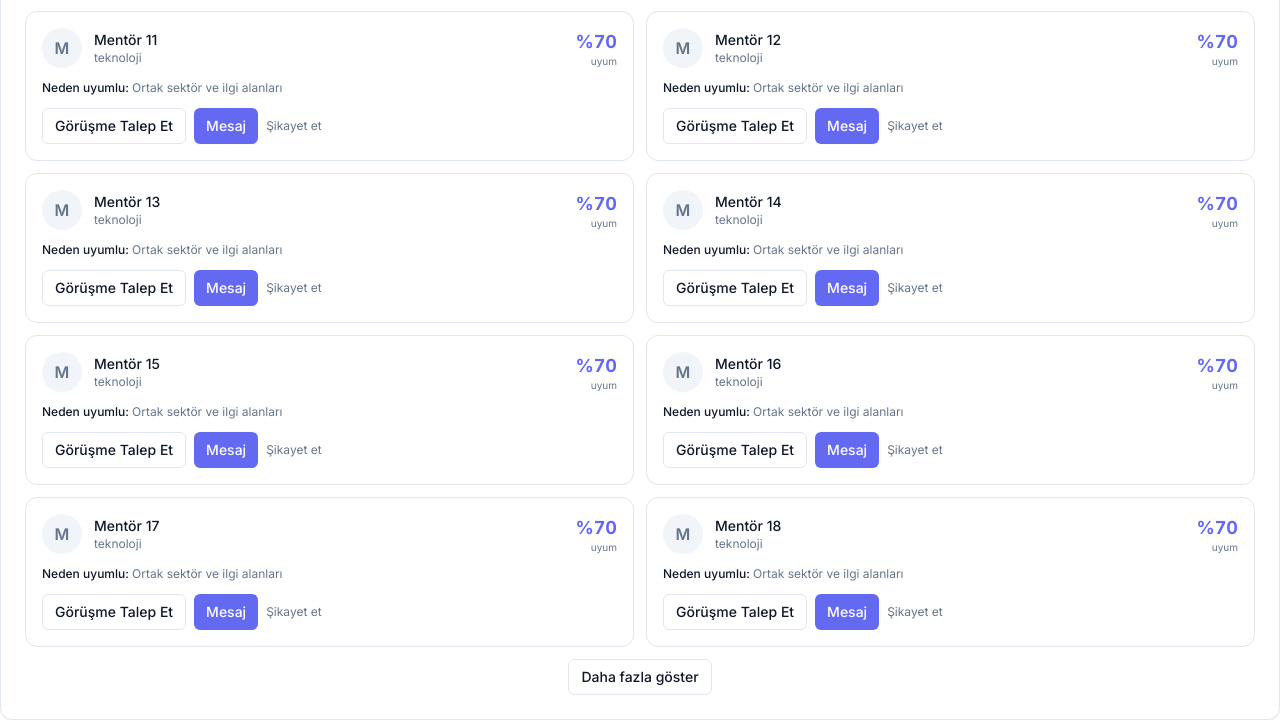
AJ-90 · menti mentör havuzu sayfalama › total > yüklenen kart iken "Daha fazla göster" görünür; tıklayınca 2. sayfa (offset) istenir ve eklenir
This screenshot has width=1280, height=720.
(page scrolled)
Click the button "Daha fazla göster" at (640, 677), box [568,659,712,695]
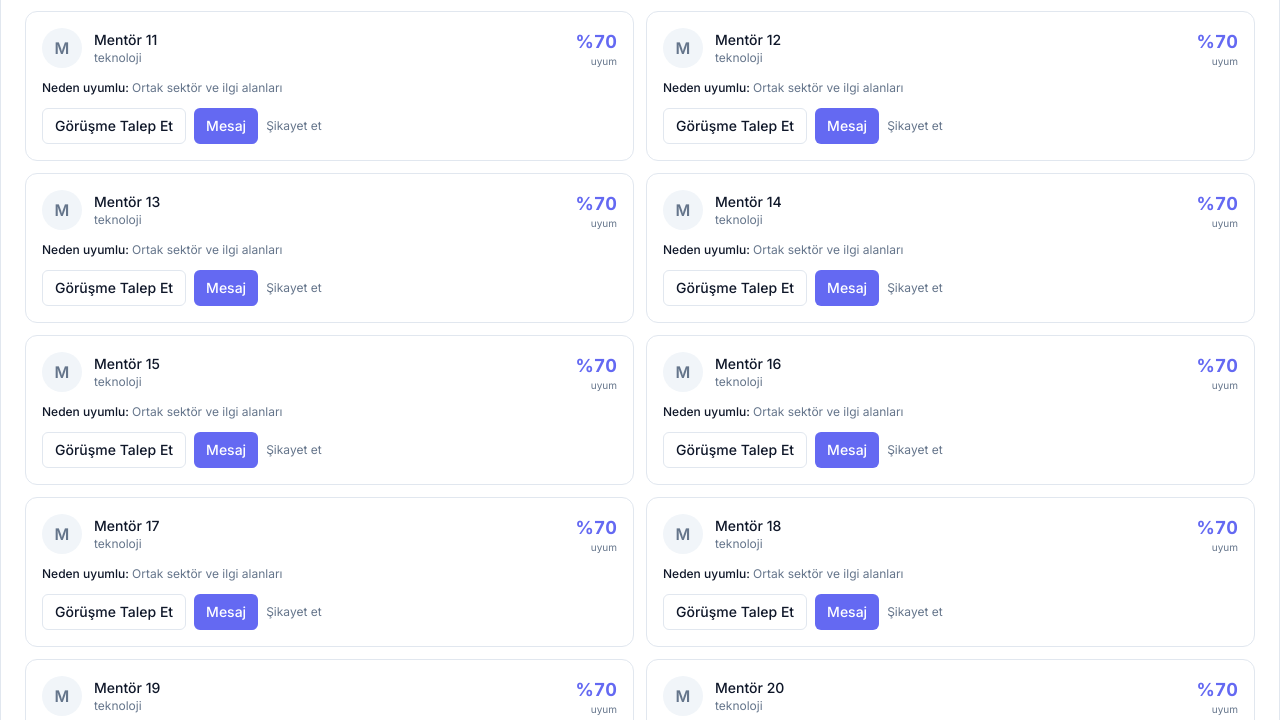
expect the button "Daha fazla göster" is gone: met
